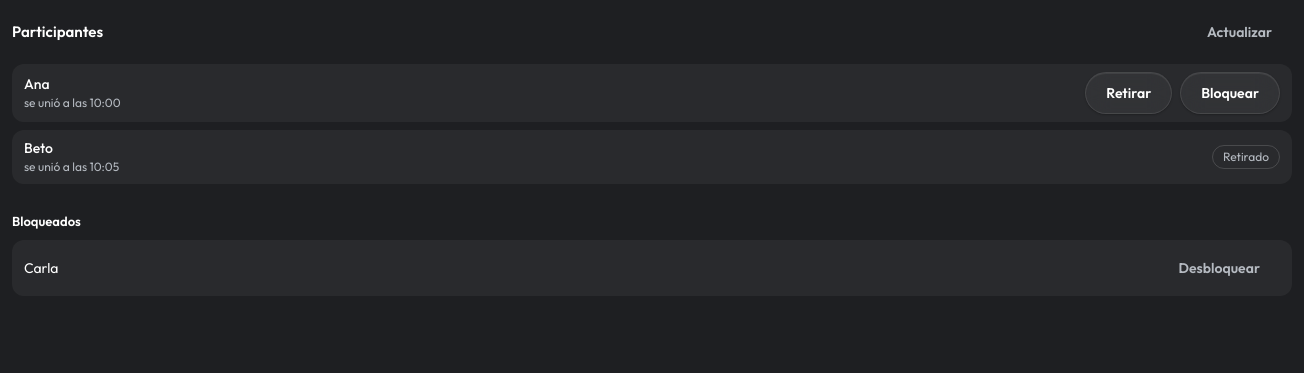
Test: ParticipantsPanel — bloqueos › si no se puede desbloquear lo avisa
Click the button with aria-label "Desbloquear a Carla": (1219, 268) [1159,248,1280,288]
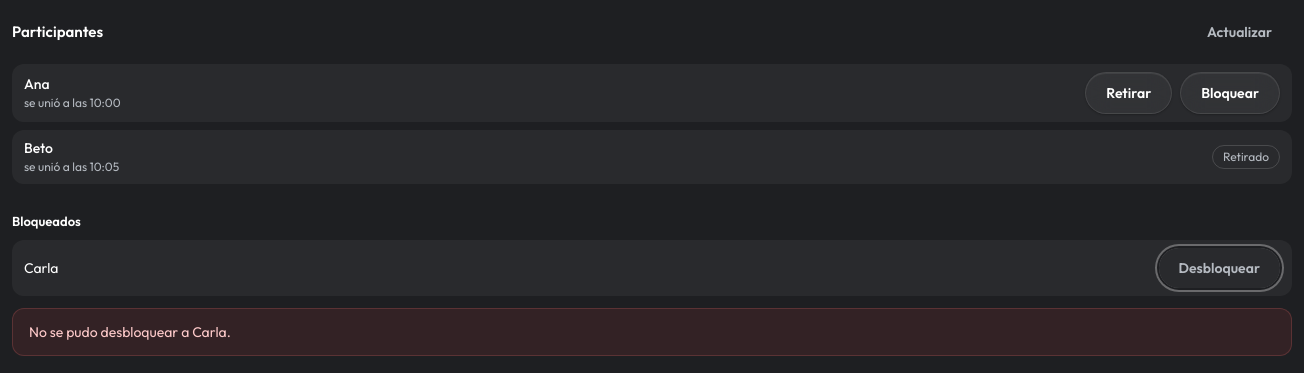
Check: the message reads "No se pudo desbloquear a Carla.", box [29,322,231,340]
